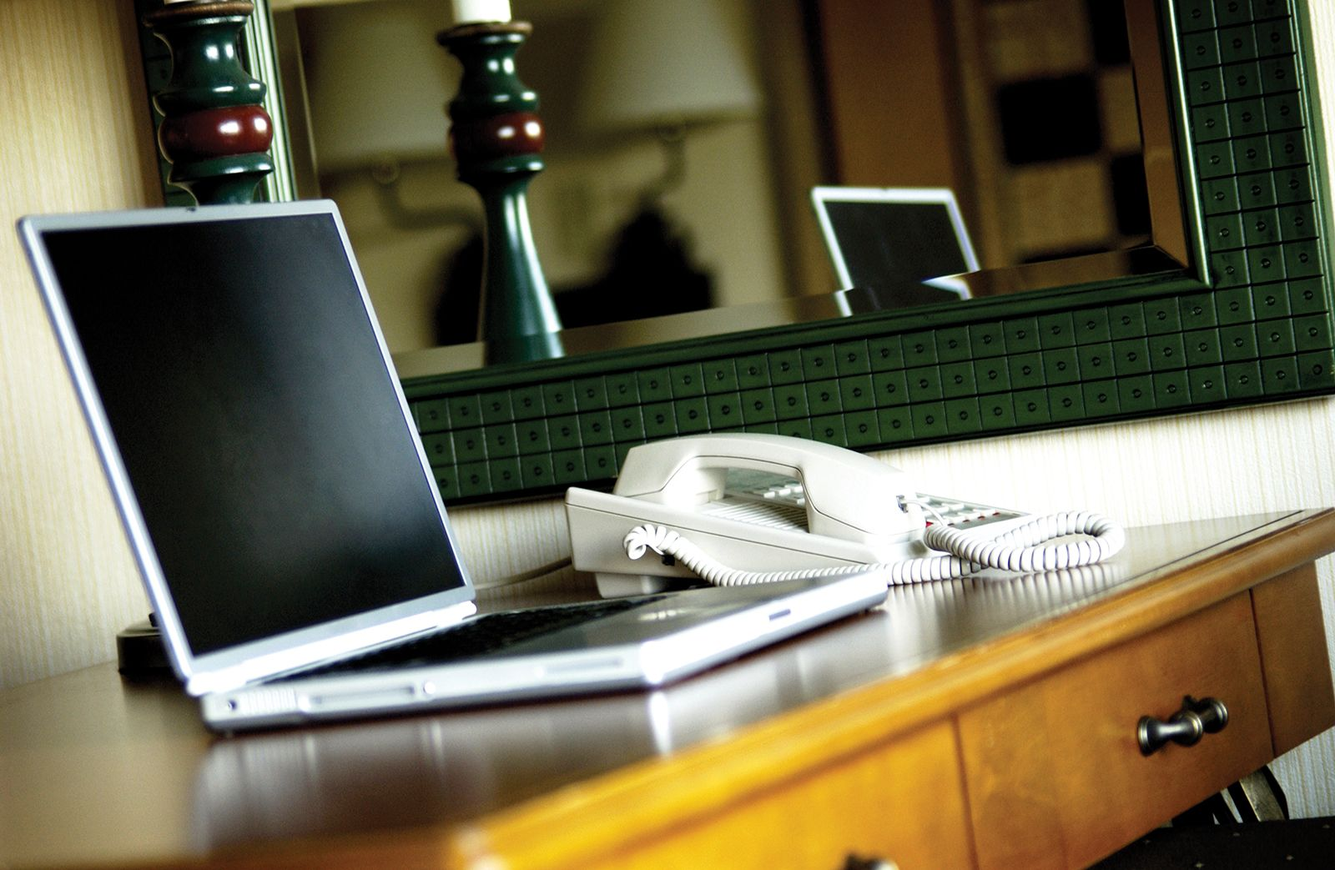Ordinateur: (549, 366, 912, 570)
